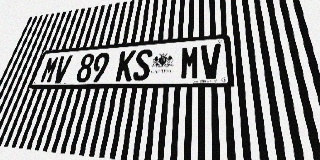8: (75, 53, 96, 82)
9: (89, 52, 111, 82)
K: (115, 50, 136, 81)
M: (180, 45, 200, 80), (39, 56, 60, 83)
S: (132, 49, 153, 81)
V: (201, 44, 222, 79), (51, 55, 73, 83)
